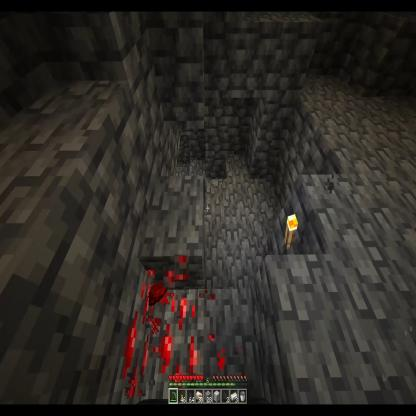redstone ore: (148, 288, 205, 396), (122, 271, 159, 394)
